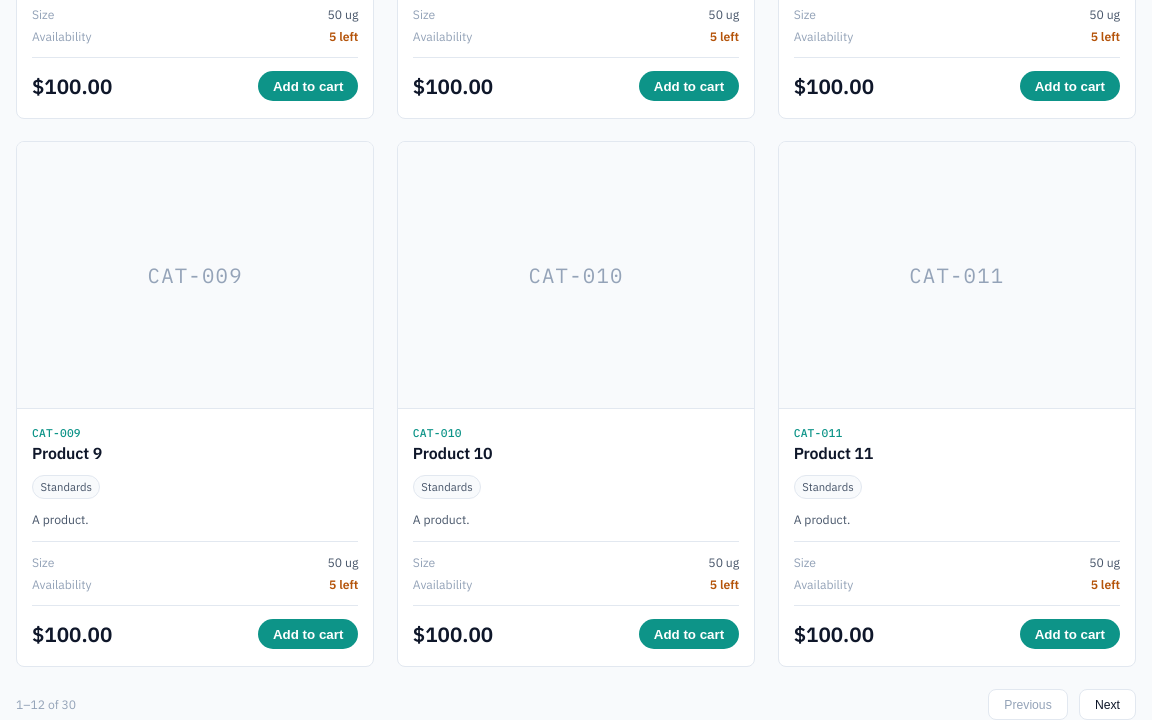
Test: ProductsPage paging › walks to the next page
(page scrolled)
Click the button "Next": (1108, 704) [1079,689,1136,719]
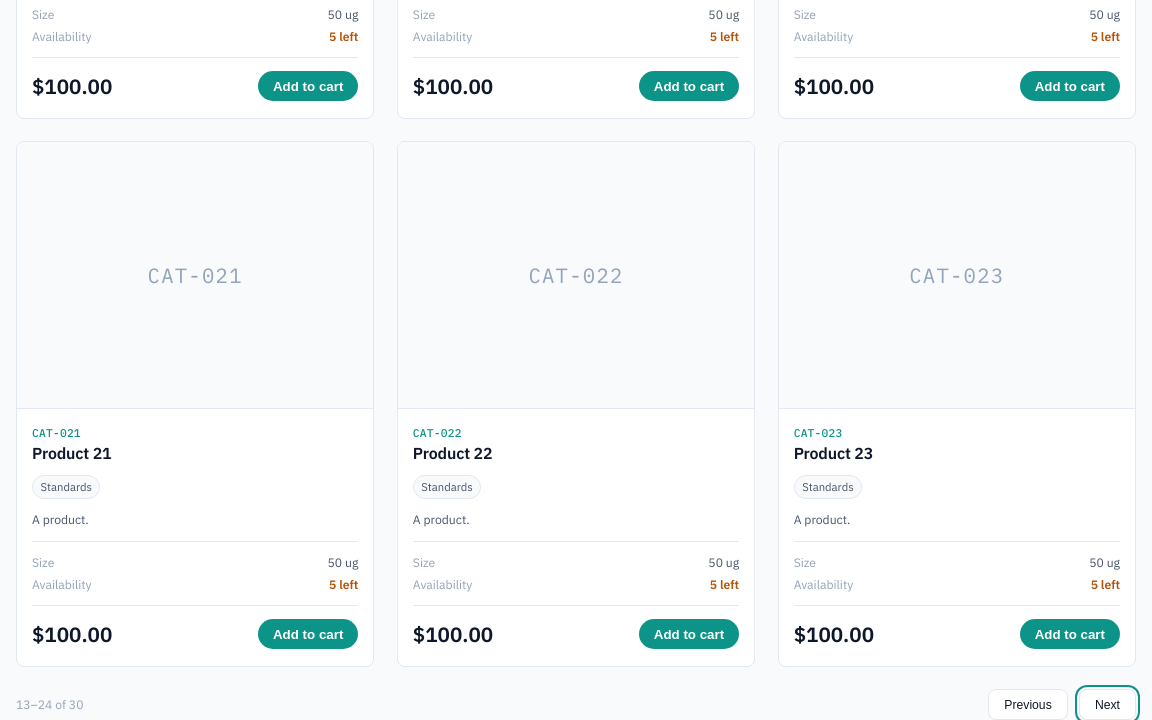
Expected: the text "13–24 of 30" is shown, [16,695,83,714]
